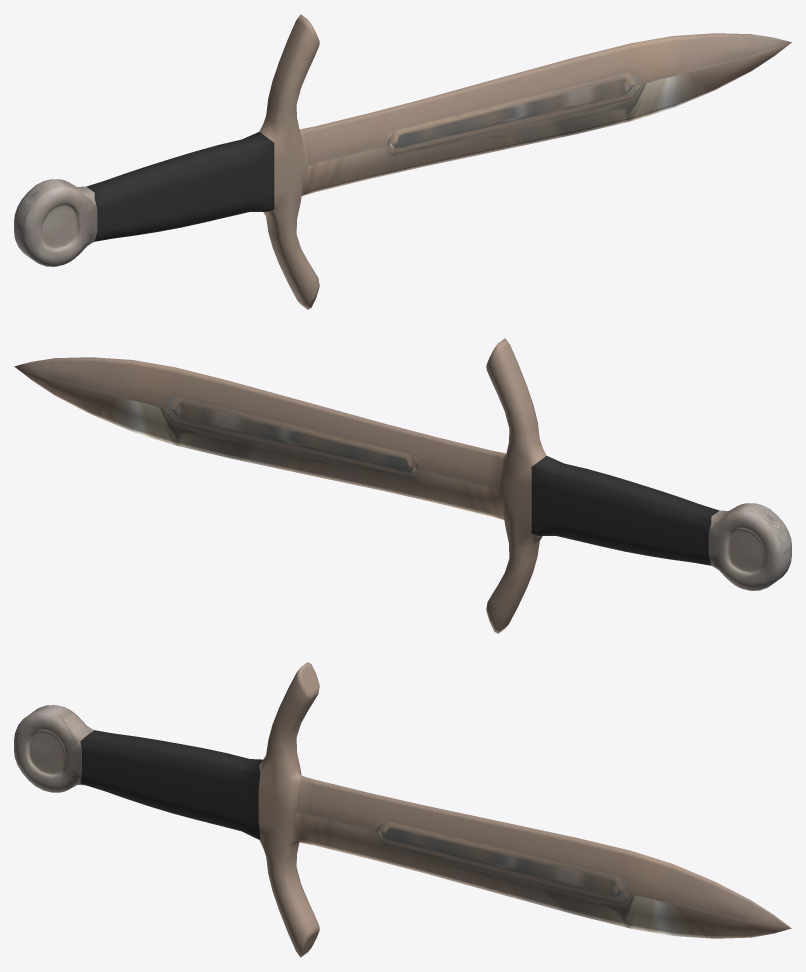
File: Dagger.FBX
3 views of the same model, one above another, from view 1: azimuth 30°, elevation 25°; view 2: azimuth 150°, elevation 25°; view 3: azimuth 330°, elevation 25° (orthographic).
Parts seen in each view (by area): view 1: Box002; view 2: Box002; view 3: Box002.
Part boxes in pixels (x1,y1,x2,y2): Box002: (14,14,791,309); Box002: (14,338,791,633); Box002: (14,662,791,957).
Bounding box in the file's own units: 203 × 72.91 × 7.
